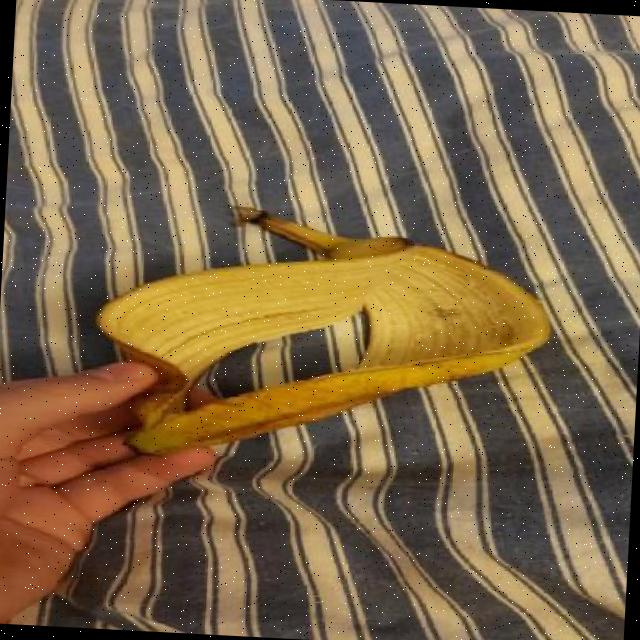banana-peel: (88, 195, 556, 477)
